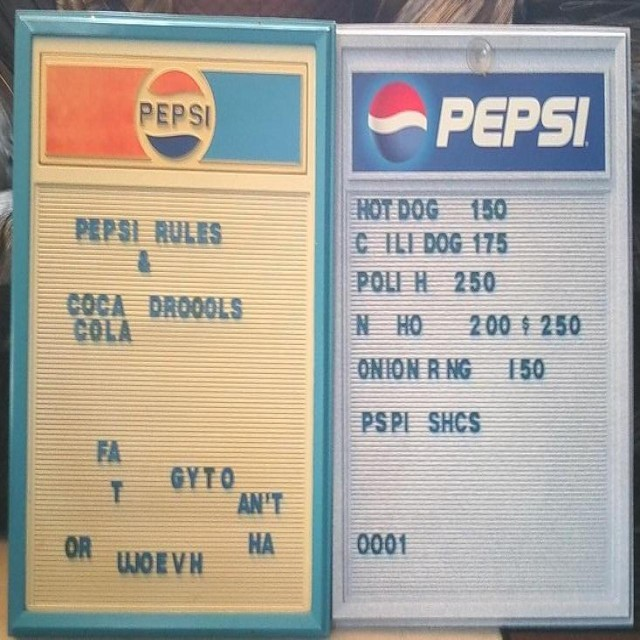pepsi: (435, 92, 600, 160), (365, 78, 431, 165)
